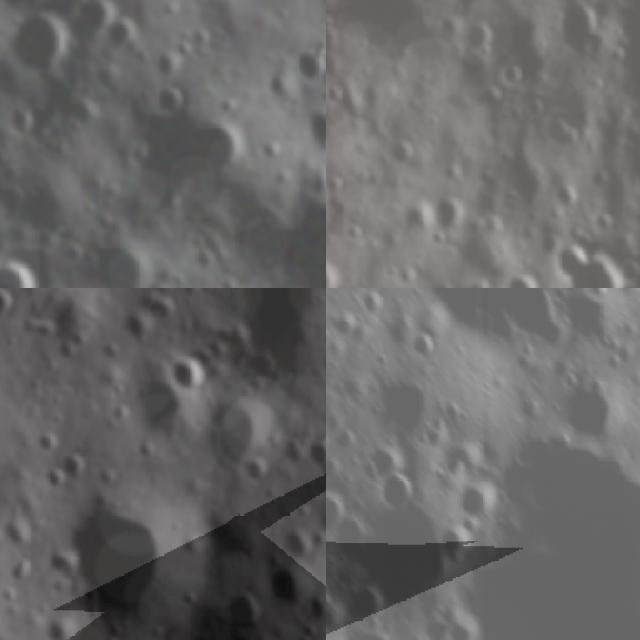crater: (44, 488, 184, 624), (372, 362, 438, 452), (550, 377, 623, 451), (124, 369, 190, 449), (178, 107, 252, 178), (486, 137, 551, 215), (0, 8, 72, 77), (204, 393, 268, 462), (548, 236, 628, 288), (81, 233, 150, 288), (210, 581, 265, 635), (256, 552, 310, 606), (326, 517, 375, 573), (448, 481, 498, 527), (0, 247, 52, 288), (100, 8, 142, 54), (370, 474, 412, 518), (430, 195, 470, 238), (239, 449, 279, 490), (2, 98, 39, 141), (58, 446, 97, 484), (166, 351, 206, 388), (120, 308, 158, 345), (382, 130, 417, 170), (150, 80, 187, 116), (299, 104, 326, 152), (0, 513, 38, 547), (402, 333, 440, 367), (264, 68, 298, 105), (296, 590, 326, 628), (326, 484, 346, 541), (0, 0, 73, 14), (304, 433, 326, 479), (298, 49, 326, 84), (34, 425, 64, 456), (326, 248, 348, 288), (497, 270, 537, 288)
